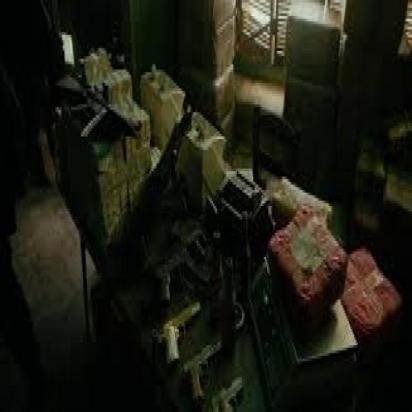Gun: (132, 107, 191, 270), (52, 64, 138, 157), (157, 293, 203, 367), (182, 334, 222, 400)
